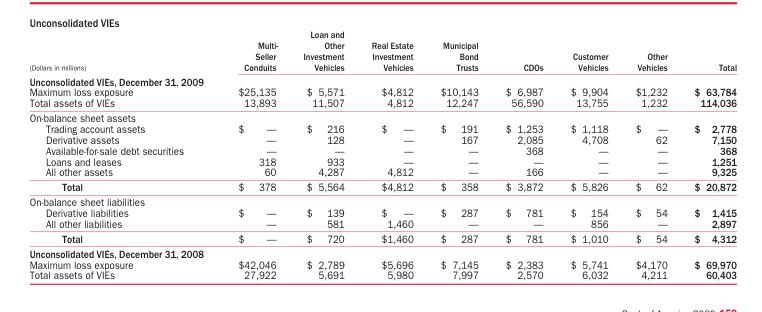table: (28, 28, 736, 281)
table column: (28, 28, 210, 281), (210, 28, 289, 281), (357, 28, 426, 281), (289, 28, 357, 281), (426, 28, 491, 281), (491, 28, 556, 281), (556, 28, 621, 281), (621, 28, 680, 281), (680, 28, 736, 281)
table column header: (28, 28, 736, 73)
table projected row header: (28, 73, 736, 86), (28, 245, 736, 258), (28, 110, 736, 122), (28, 194, 736, 206)
table row: (28, 28, 736, 73), (28, 179, 736, 194), (28, 230, 736, 245), (28, 73, 736, 86), (28, 97, 736, 110), (28, 166, 736, 179), (28, 217, 736, 230), (28, 245, 736, 258), (28, 110, 736, 122), (28, 194, 736, 206), (28, 269, 736, 281), (28, 86, 736, 97), (28, 122, 736, 133), (28, 133, 736, 144), (28, 144, 736, 155), (28, 155, 736, 166), (28, 206, 736, 217), (28, 258, 736, 269)
